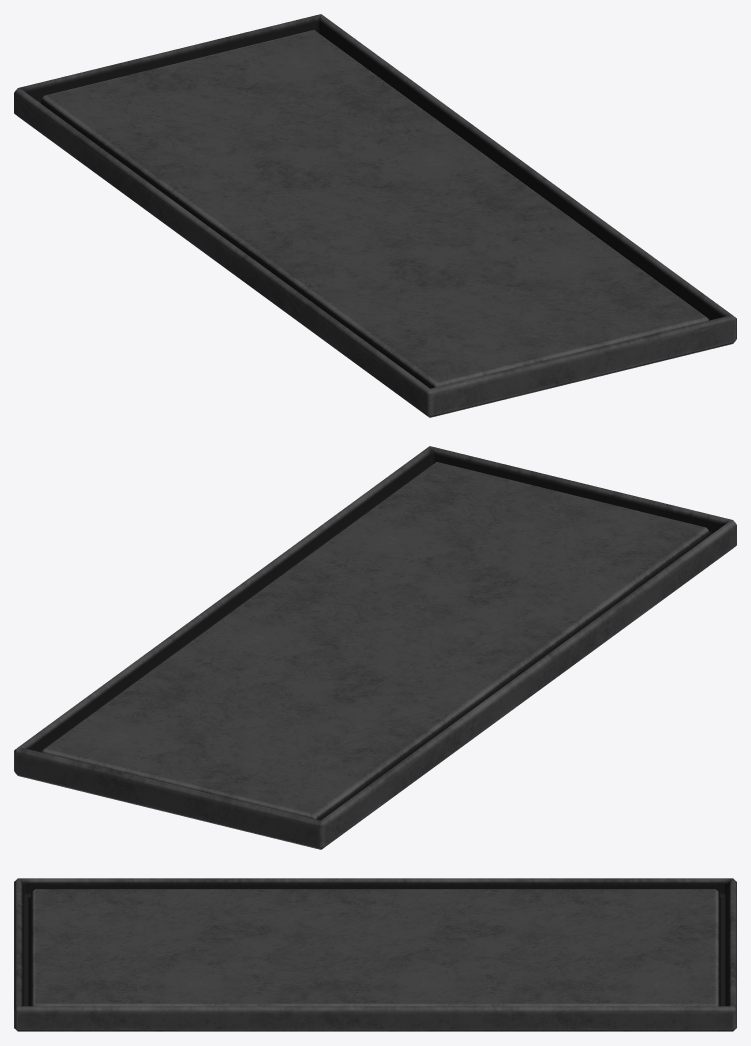
Rendered from SM_RubberCoaster.fbx.
3 views of the same model, one above another, from view 1: azimuth 30°, elevation 25°; view 2: azimuth 150°, elevation 25°; view 3: azimuth 270°, elevation 25° (orthographic). The views are drawn at different scales.
Visible parts, largest first — view 1: SM_RubberCoaster; view 2: SM_RubberCoaster; view 3: SM_RubberCoaster.
Part boxes in pixels (<box>): SM_RubberCoaster: <box>14,14,736,417</box>; SM_RubberCoaster: <box>14,446,736,849</box>; SM_RubberCoaster: <box>14,878,736,1031</box>.
Size of the model in its own units: 54.08 by 125 by 4.74.
Materials: 1 (1 with a texture image).
